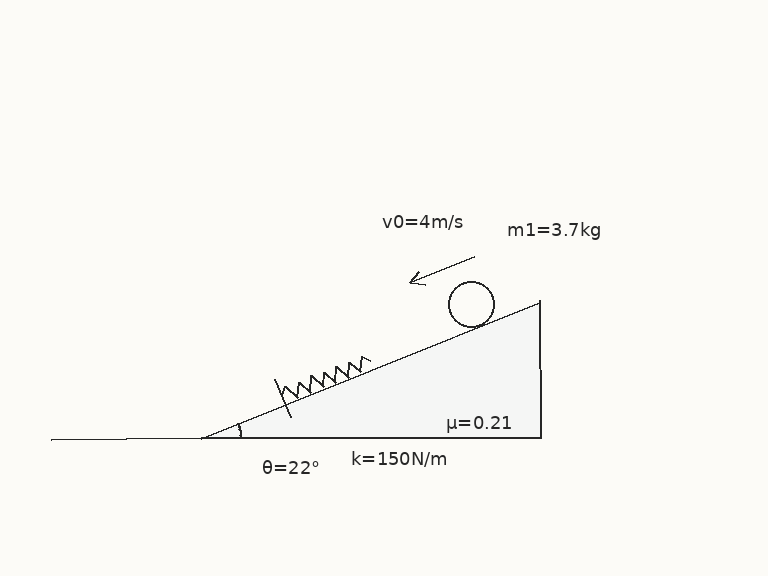ball: (446, 279, 496, 329)
ramp: (199, 299, 541, 440)
spring: (280, 354, 372, 399)
